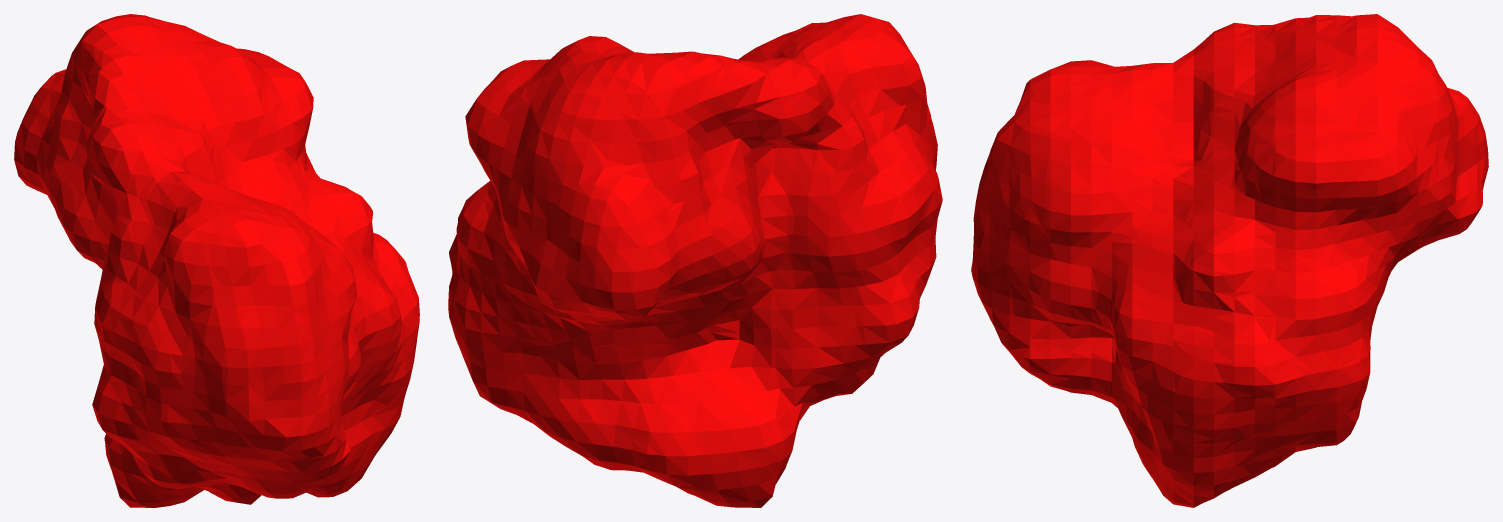
File: ilvB_coarse.dae
3 views of the same model, side by side, from view 1: azimuth 30°, elevation 25°; view 2: azimuth 150°, elevation 25°; view 3: azimuth 270°, elevation 25° (orthographic). The views are drawn at different scales.
Parts seen in each view (by area): view 1: ilvB; view 2: ilvB; view 3: ilvB.
Part boxes in pixels (box(x1,y1,x2,y2)): ilvB: box(14, 14, 419, 507); ilvB: box(448, 14, 942, 507); ilvB: box(971, 14, 1488, 507).
Size of the model in its own units: 59.33 by 69.65 by 76.36.
